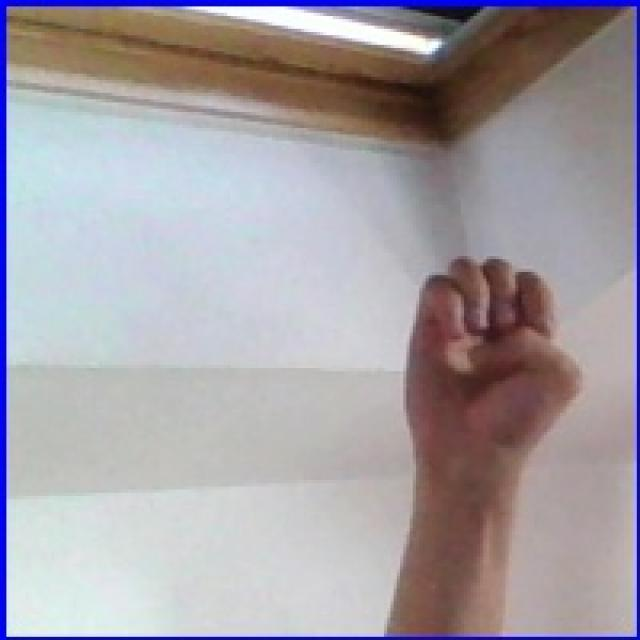Letra E: (376, 226, 601, 522)
